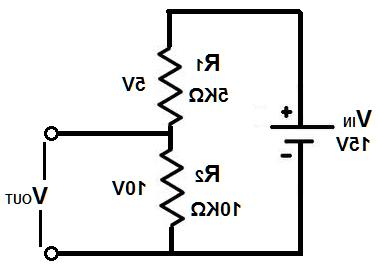Battery: (260, 98, 330, 166)
